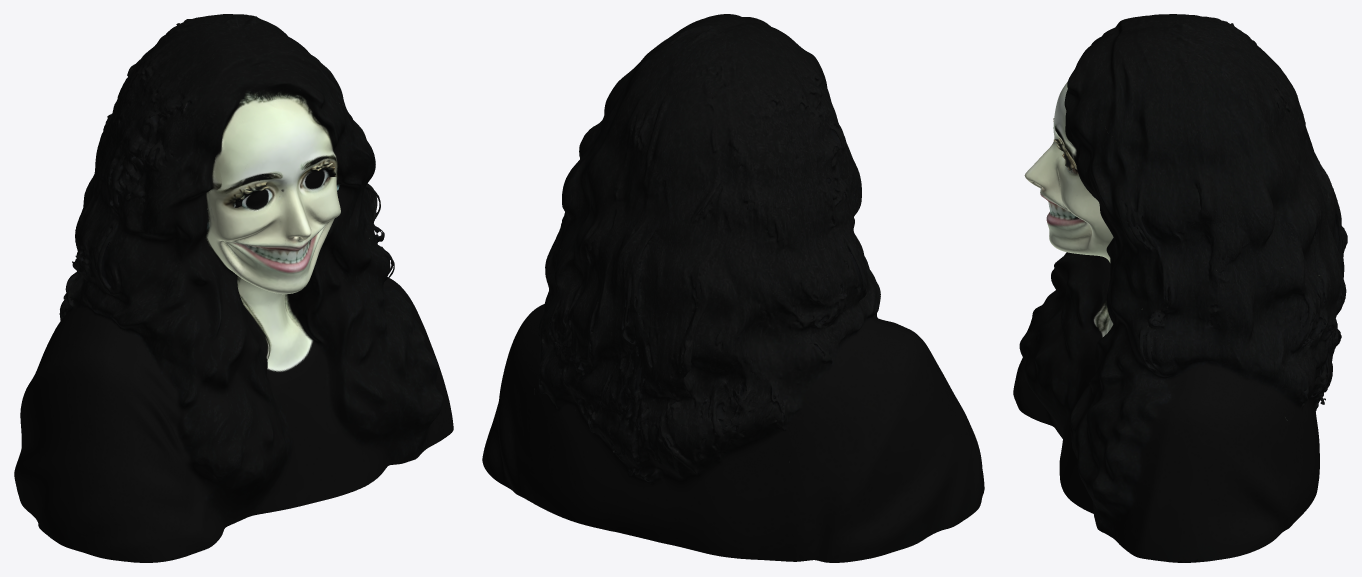
File: katrina_0930145730_texture.glb
The picture shows the model from 3 angles, left to right: view 1: azimuth 30°, elevation 25°; view 2: azimuth 150°, elevation 25°; view 3: azimuth 270°, elevation 25°; orthographic projection. The views are drawn at different scales.
Bounding box in the file's own units: 1.9 × 1.9 × 1.31.
Materials: 1 (1 with a texture image).
